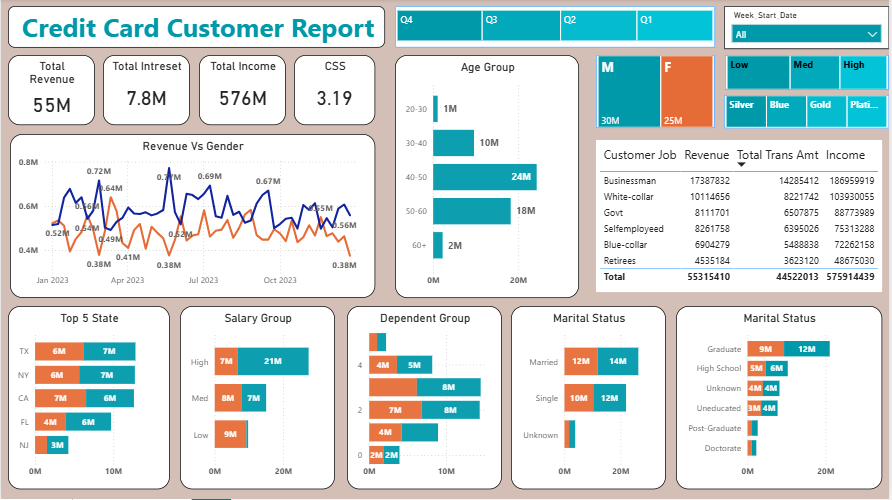

The dashboard page shown, as its layout file describes it:
{"tool":"powerbi","page":{"name":"CC Customer","canvas":[1280,720],"ordinal":0},"visuals":[{"type":"textbox","box":[10.1,10.1,542.9,60.5],"z":0},{"type":"barChart","title":"Top 5 State","fields":{"Category":["cust_detail.State_cd"],"Y":["Sum(cc_detail.Revenue)"],"Series":["cust_detail.Gender"]},"box":[10.1,442.1,233.3,263.5],"z":1000},{"type":"tableEx","fields":{"Values":["cust_detail.Customer_Job","Sum(cc_detail.Revenue)","Sum(cc_detail.Total_Trans_Amt)","Sum(cust_detail.Income)"]},"box":[856.8,203,411.8,218.9],"z":2000},{"type":"card","title":"Total Revenue","fields":{"Values":["Sum(cc_detail.Revenue)"]},"box":[10.1,80.6,125.3,100.8],"z":3000},{"type":"card","title":"Total Intreset","fields":{"Values":["Sum(cc_detail.Interest_Earned)"]},"box":[146.9,80.6,125.3,100.8],"z":4000},{"type":"card","title":"CSS","fields":{"Values":["Avg(cust_detail.Cust_Satisfaction_Score)"]},"box":[421.9,80.6,116.6,100.8],"z":5000},{"type":"card","title":"Total Income","fields":{"Values":["Sum(cust_detail.Income)"]},"box":[285.1,80.6,125.3,100.8],"z":6000},{"type":"treemap","fields":{"Group":["cc_detail.Qtr"],"Values":["Avg(cc_detail.Client_Num)"]},"box":[567.4,10.1,460.8,60.5],"z":7000},{"type":"treemap","fields":{"Group":["cust_detail.Gender"],"Values":["Sum(cc_detail.Revenue)"]},"box":[856.8,80.6,171.4,105.1],"z":8000},{"type":"treemap","fields":{"Values":["Sum(cc_detail.Client_Num)"],"Group":["cust_detail.IncomeGroup"]},"box":[1042.6,80.6,236.2,50.4],"z":9000},{"type":"treemap","fields":{"Values":["Avg(cc_detail.Client_Num)"],"Group":["cc_detail.Card_Category"]},"box":[1041.1,138.2,237.6,47.5],"z":10000},{"type":"slicer","fields":{"Values":["cc_detail.Week_Start_Date"]},"box":[1041.1,10.1,237.6,61.9],"z":11000},{"type":"lineChart","title":"Revenue Vs Gender","fields":{"Y":["Sum(cc_detail.Revenue)"],"Category":["cc_detail.Week_Start_Date.Variation.Date Hierarchy.Year","cc_detail.Week_Start_Date.Variation.Date Hierarchy.Month","cc_detail.Week_Start_Date.Variation.Date Hierarchy.Day"],"Series":["cust_detail.Gender"]},"box":[13,194.4,525.6,236.2],"z":12000},{"type":"clusteredBarChart","title":"Age Group","fields":{"Y":["Sum(cc_detail.Revenue)"],"Category":["cust_detail.AgeGroup"]},"box":[567.4,80.6,265,349.9],"z":13000},{"type":"barChart","title":"Salary Group","fields":{"Category":["cust_detail.IncomeGroup"],"Y":["Sum(cc_detail.Revenue)"],"Series":["cust_detail.Gender"]},"box":[257.8,442.1,223.2,263.5],"z":16001},{"type":"barChart","title":"Dependent Group","fields":{"Y":["Sum(cc_detail.Revenue)"],"Series":["cust_detail.Gender"],"Category":["cust_detail.Dependent_Count"]},"box":[498.2,442.1,223.2,263.5],"z":16002},{"type":"barChart","title":"Marital Status","fields":{"Y":["Sum(cc_detail.Revenue)"],"Series":["cust_detail.Gender"],"Category":["cust_detail.Marital_Status"]},"box":[734.4,442.1,223.2,263.5],"z":16003},{"type":"barChart","title":"Marital Status","fields":{"Y":["Sum(cc_detail.Revenue)"],"Series":["cust_detail.Gender"],"Category":["cust_detail.Education_Level"]},"box":[972,442.1,296.6,263.5],"z":16004}]}

Visuals, with their boxes in screenshot pixels (x1, y1, x2, y2), scaled from the page's 1280x720 canvas onto the 892x500 screenshot:
textbox: (left=7, top=7, right=385, bottom=49)
"Top 5 State" barChart: (left=7, top=307, right=170, bottom=490)
tableEx - cust_detail.Customer_Job x Sum(cc_detail.Revenue): (left=597, top=141, right=884, bottom=293)
"Total Revenue" card: (left=7, top=56, right=94, bottom=126)
"Total Intreset" card: (left=102, top=56, right=190, bottom=126)
"CSS" card: (left=294, top=56, right=375, bottom=126)
"Total Income" card: (left=199, top=56, right=286, bottom=126)
treemap - cc_detail.Qtr x Avg(cc_detail.Client_Num): (left=395, top=7, right=717, bottom=49)
treemap - cust_detail.Gender x Sum(cc_detail.Revenue): (left=597, top=56, right=717, bottom=129)
treemap - Sum(cc_detail.Client_Num) x cust_detail.IncomeGroup: (left=727, top=56, right=891, bottom=91)
treemap - Avg(cc_detail.Client_Num) x cc_detail.Card_Category: (left=726, top=96, right=891, bottom=129)
slicer - cc_detail.Week_Start_Date: (left=726, top=7, right=891, bottom=50)
"Revenue Vs Gender" lineChart: (left=9, top=135, right=375, bottom=299)
"Age Group" clusteredBarChart: (left=395, top=56, right=580, bottom=299)
"Salary Group" barChart: (left=180, top=307, right=335, bottom=490)
"Dependent Group" barChart: (left=347, top=307, right=503, bottom=490)
"Marital Status" barChart: (left=512, top=307, right=667, bottom=490)
"Marital Status" barChart: (left=677, top=307, right=884, bottom=490)
